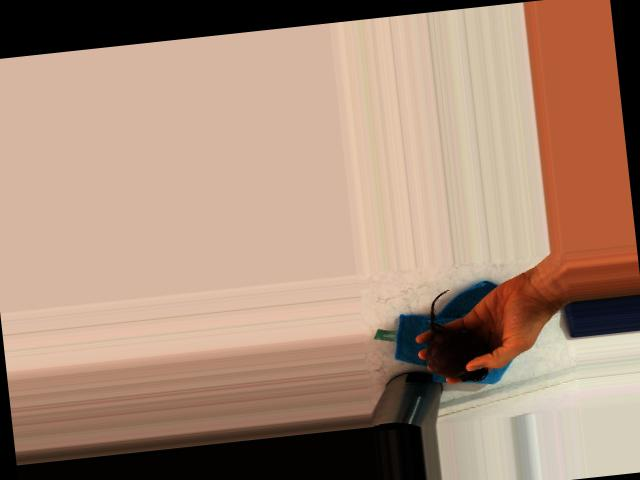beet: (418, 285, 494, 386)
